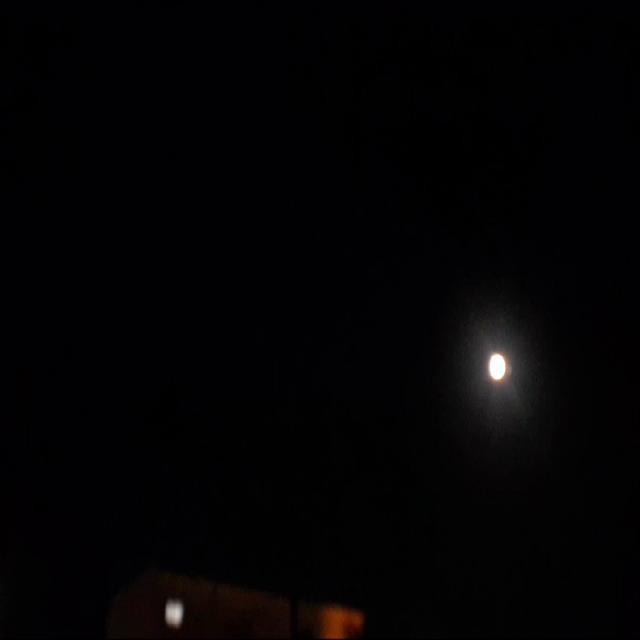moon: (481, 349, 504, 382)
